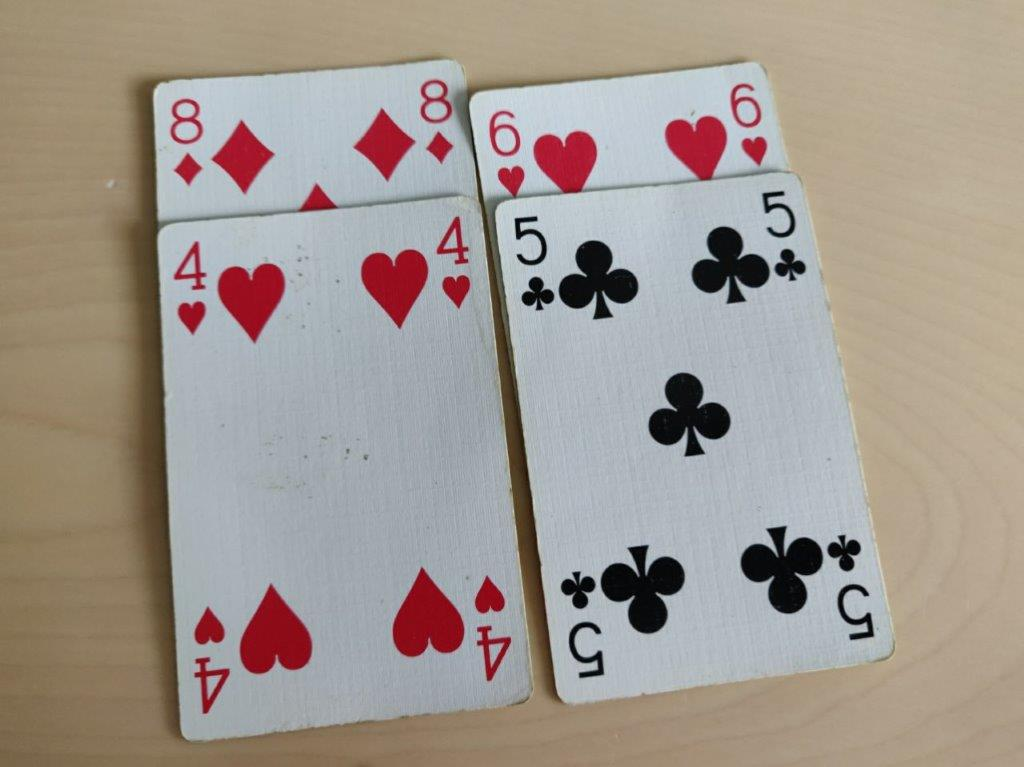4H: (168, 234, 213, 341), (432, 211, 477, 318)
5C: (505, 207, 558, 319), (757, 187, 810, 299)
6H: (482, 100, 535, 205), (723, 70, 776, 175)
8D: (158, 83, 208, 196), (411, 69, 461, 182)
